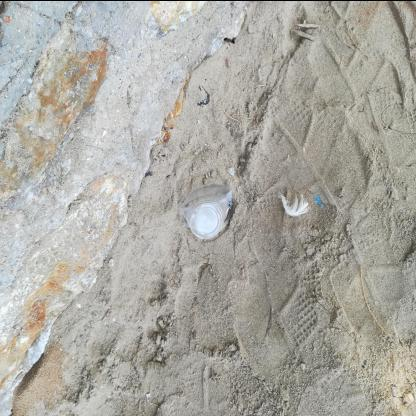plastik: (179, 183, 235, 240)
